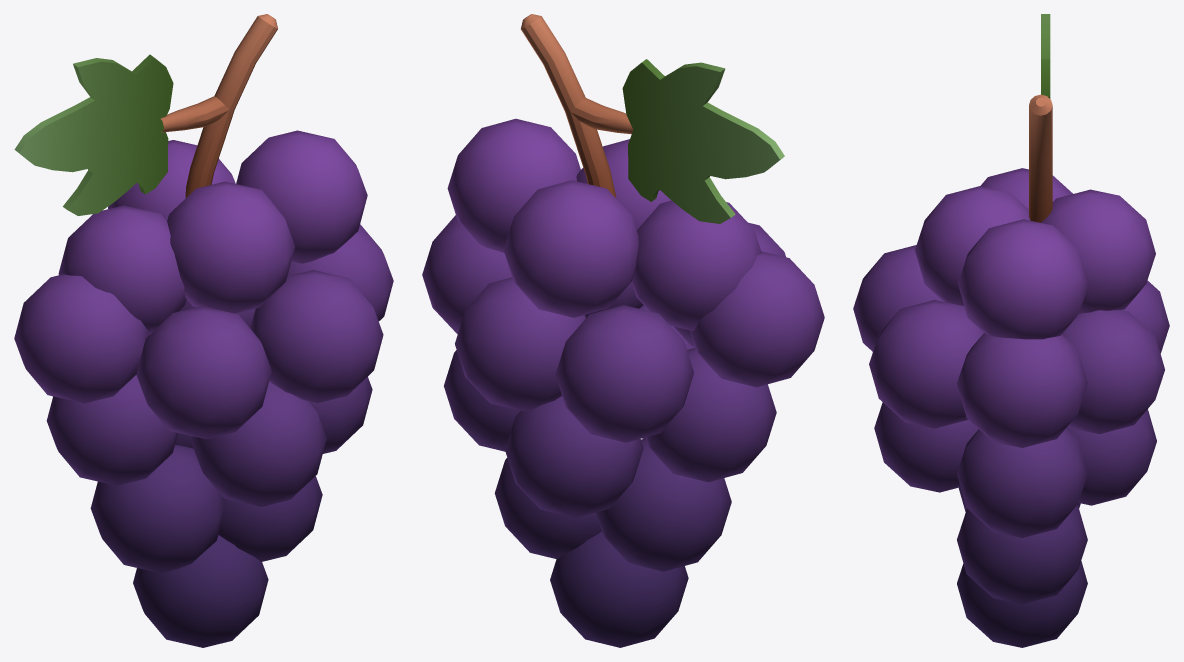
File: Grape.fbx
The picture shows the model from 3 angles, left to right: view 1: azimuth 30°, elevation 25°; view 2: azimuth 150°, elevation 25°; view 3: azimuth 270°, elevation 25°; orthographic projection. The views are drawn at different scales.
Parts seen in each view (by area): view 1: Grape; view 2: Grape; view 3: Grape.
Boxes of the visible parts, <box> form: Grape: <box>14,14,393,647</box>; Grape: <box>422,14,824,647</box>; Grape: <box>853,14,1169,647</box>.
Bounding box in the file's own units: 14.17 × 22.47 × 11.09.
